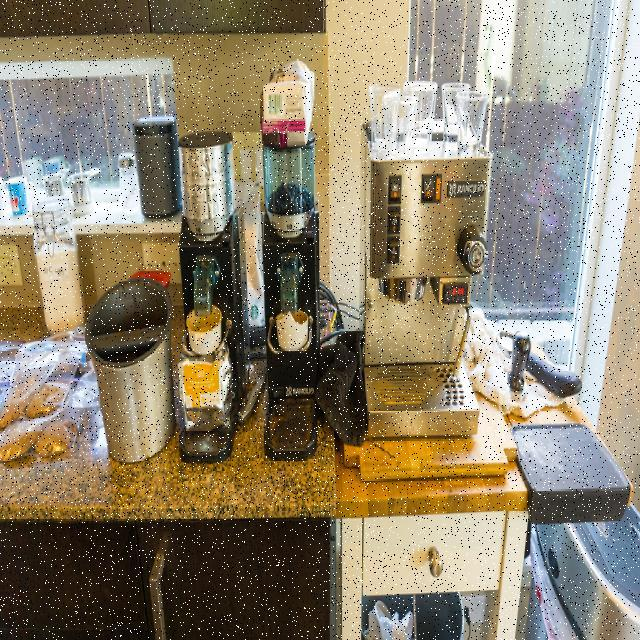Coffee-Machine: (165, 107, 251, 497), (245, 156, 331, 487)
